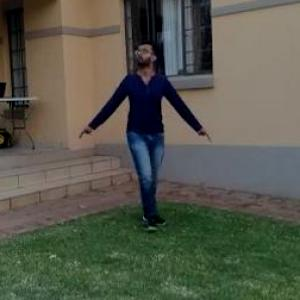land: (92, 50, 195, 214)
